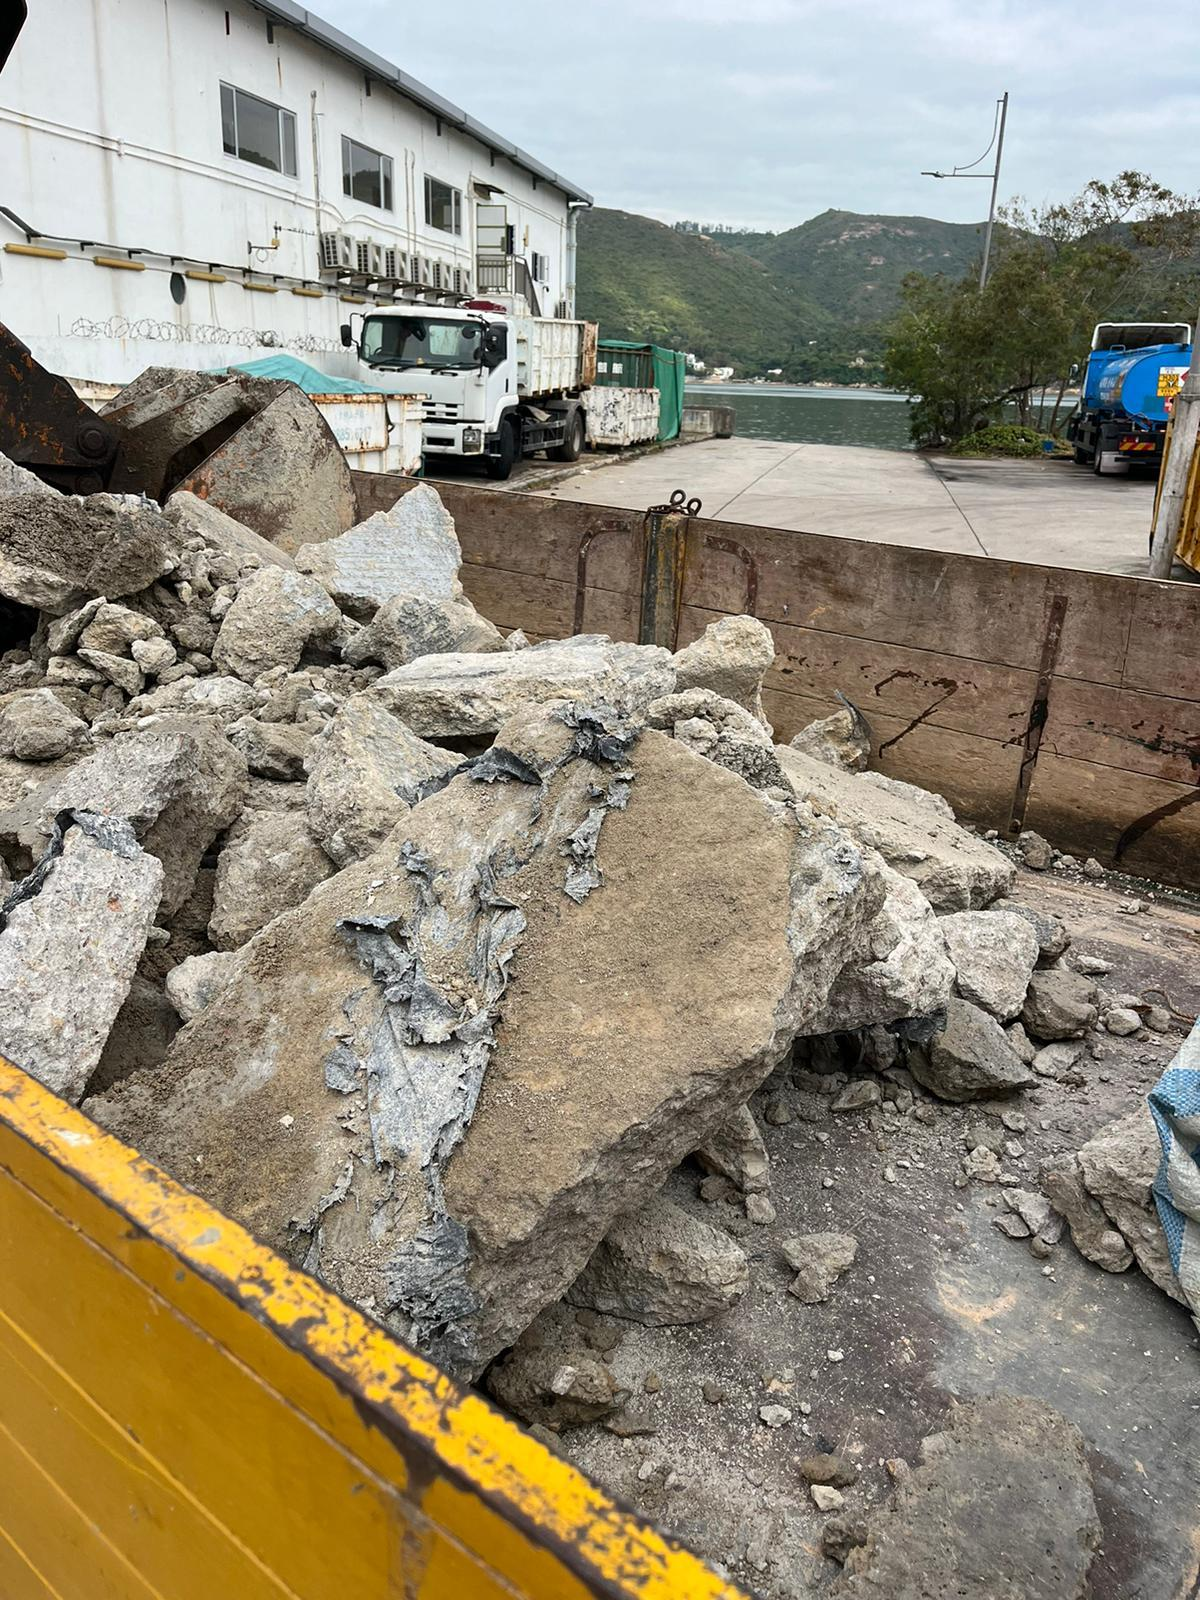dry: (18, 508, 1040, 1387)
